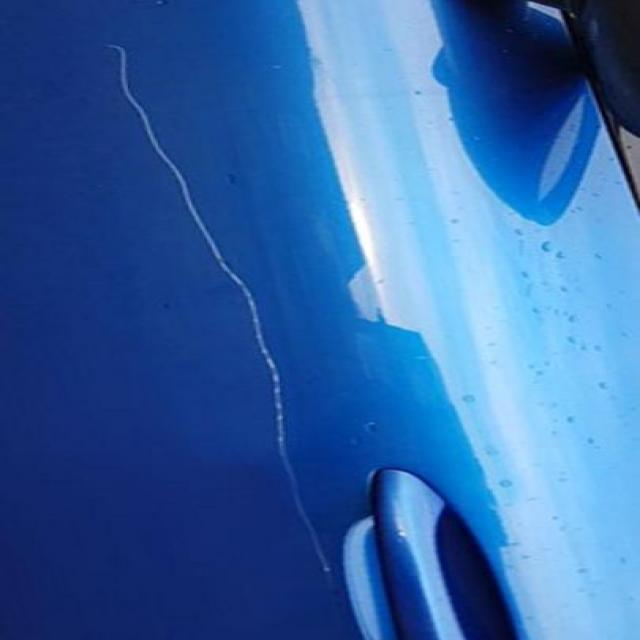scratch: (80, 29, 374, 596)
